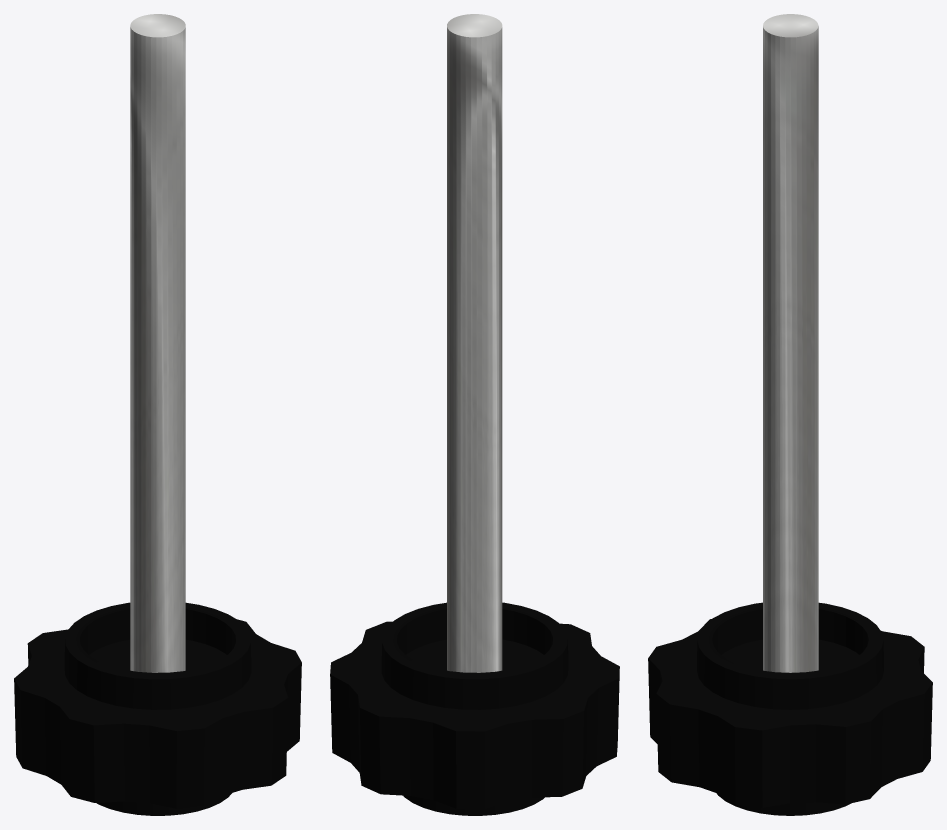
Rendered from planePump.obj.
The picture shows the model from 3 angles, left to right: view 1: azimuth 30°, elevation 25°; view 2: azimuth 150°, elevation 25°; view 3: azimuth 270°, elevation 25°; orthographic projection.
Visible parts, largest first — view 1: Cylinder.049_Cylinder.054; view 2: Cylinder.049_Cylinder.054; view 3: Cylinder.049_Cylinder.054.
Part boxes in pixels (left/top/right/bottom): Cylinder.049_Cylinder.054: left=14, top=14, right=301, bottom=815; Cylinder.049_Cylinder.054: left=330, top=14, right=619, bottom=815; Cylinder.049_Cylinder.054: left=648, top=14, right=932, bottom=815.
Bounding box in the file's own units: 9.15 × 26.85 × 9.15.
